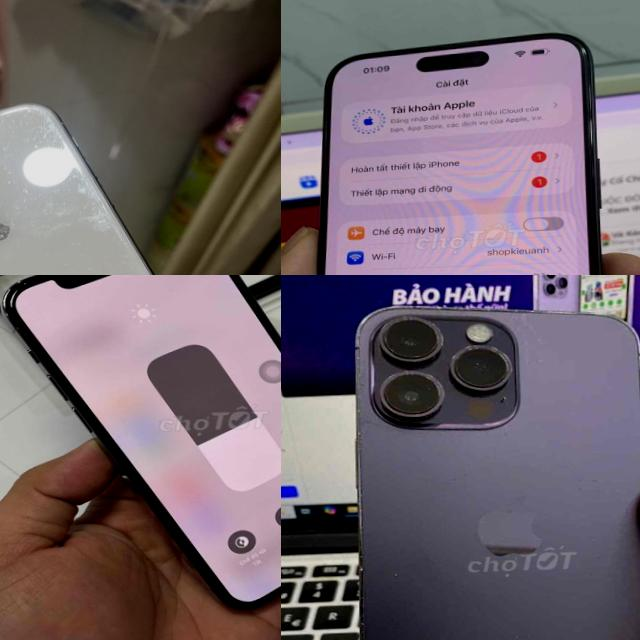gen_12_13: (0, 275, 281, 621)
gen_14: (334, 290, 640, 640)
gen_15: (289, 11, 618, 275)
gen_x_xs: (0, 81, 281, 275)
